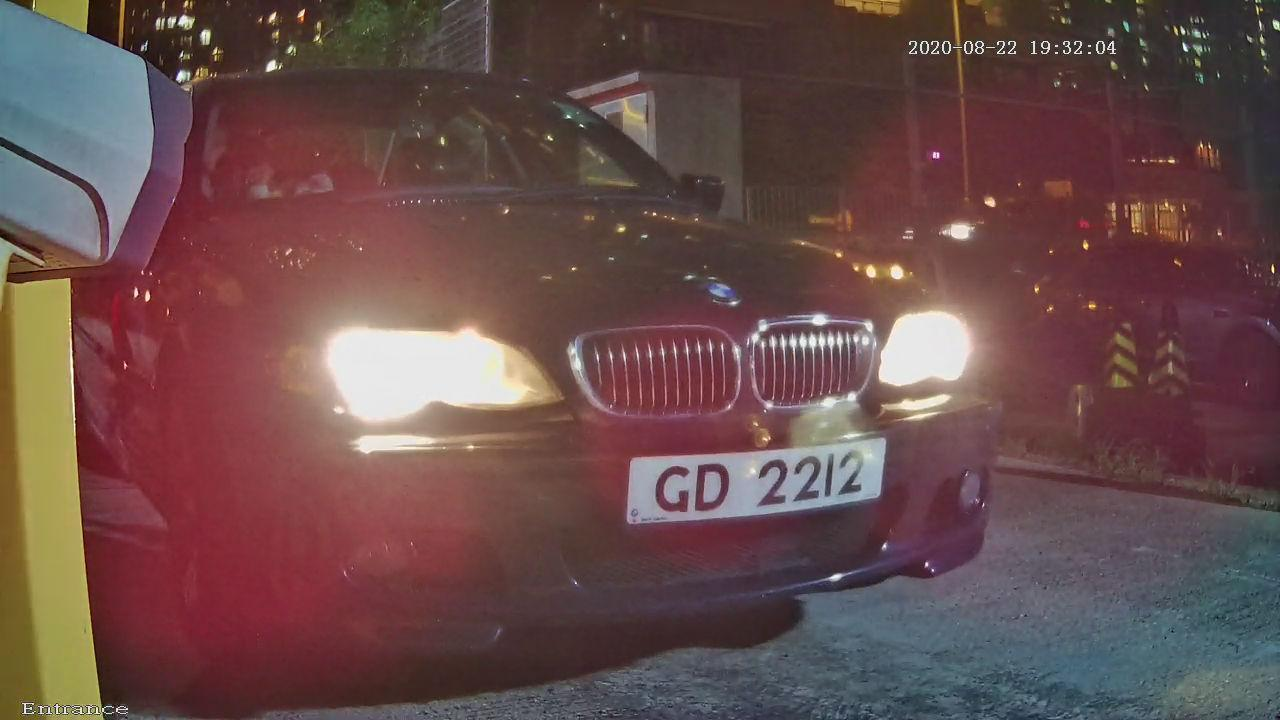Car: (18, 13, 1115, 688)
License Plate: (540, 393, 971, 571)
